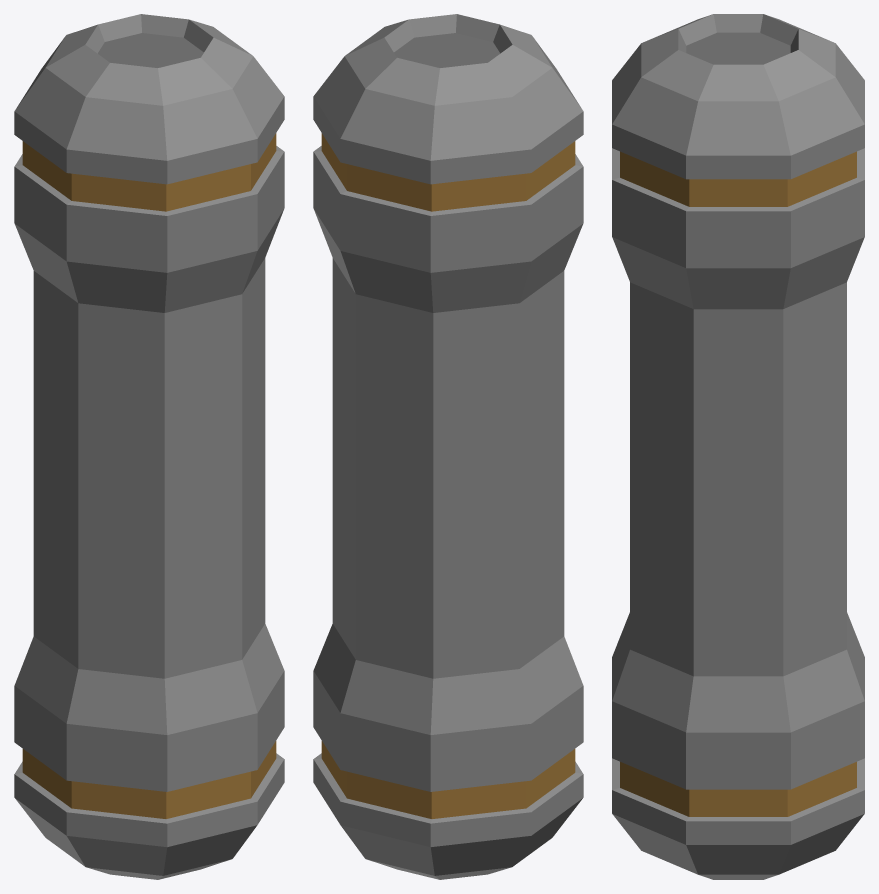
Rendered from vessel-tall.glb.
3 renders of one model, left to right at view 1: azimuth 30°, elevation 25°; view 2: azimuth 150°, elevation 25°; view 3: azimuth 270°, elevation 25°, orthographic.
Visible parts, largest first — view 1: Props_Vessel_Tall; view 2: Props_Vessel_Tall; view 3: Props_Vessel_Tall.
Boxes of the visible parts, <box> form: Props_Vessel_Tall: <box>14,14,284,879</box>; Props_Vessel_Tall: <box>313,14,583,879</box>; Props_Vessel_Tall: <box>612,14,864,879</box>.
Bounding box in the file's own units: 0.2873 × 1.02 × 0.2873.
